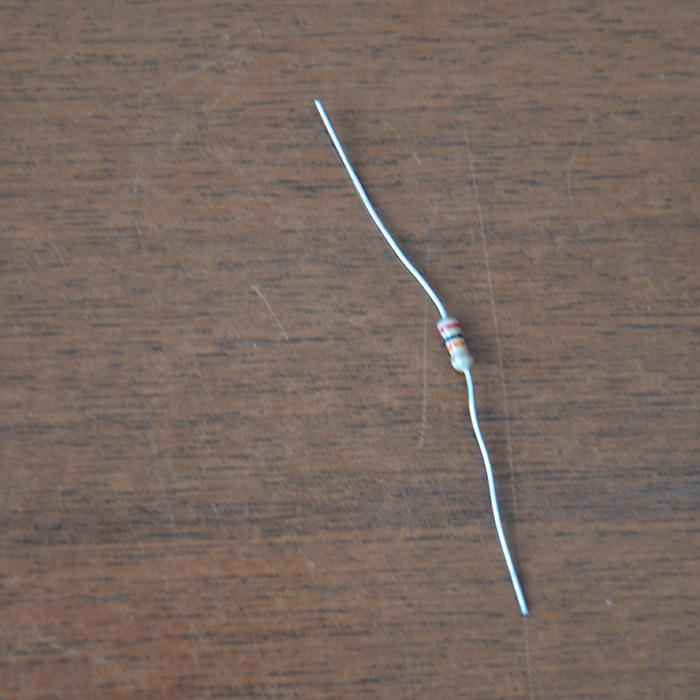resistor: (435, 315, 473, 373)
